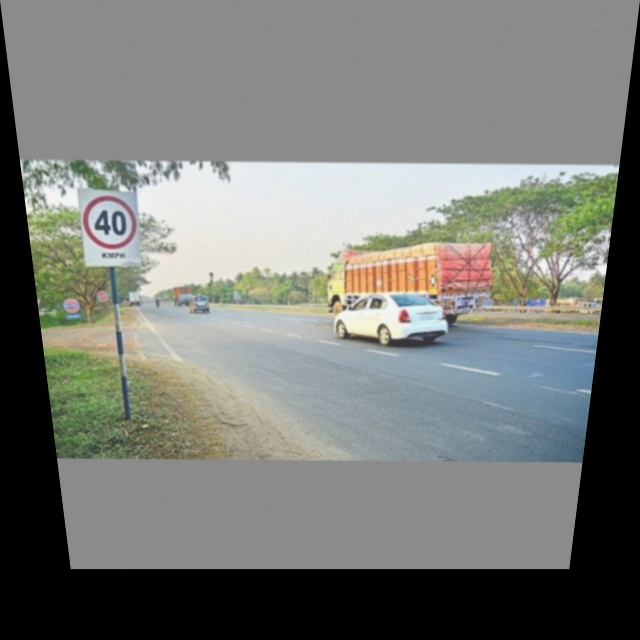Speed_Limit_40: (76, 185, 144, 270)
